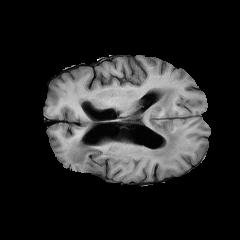glioma: (68, 86, 194, 169)
